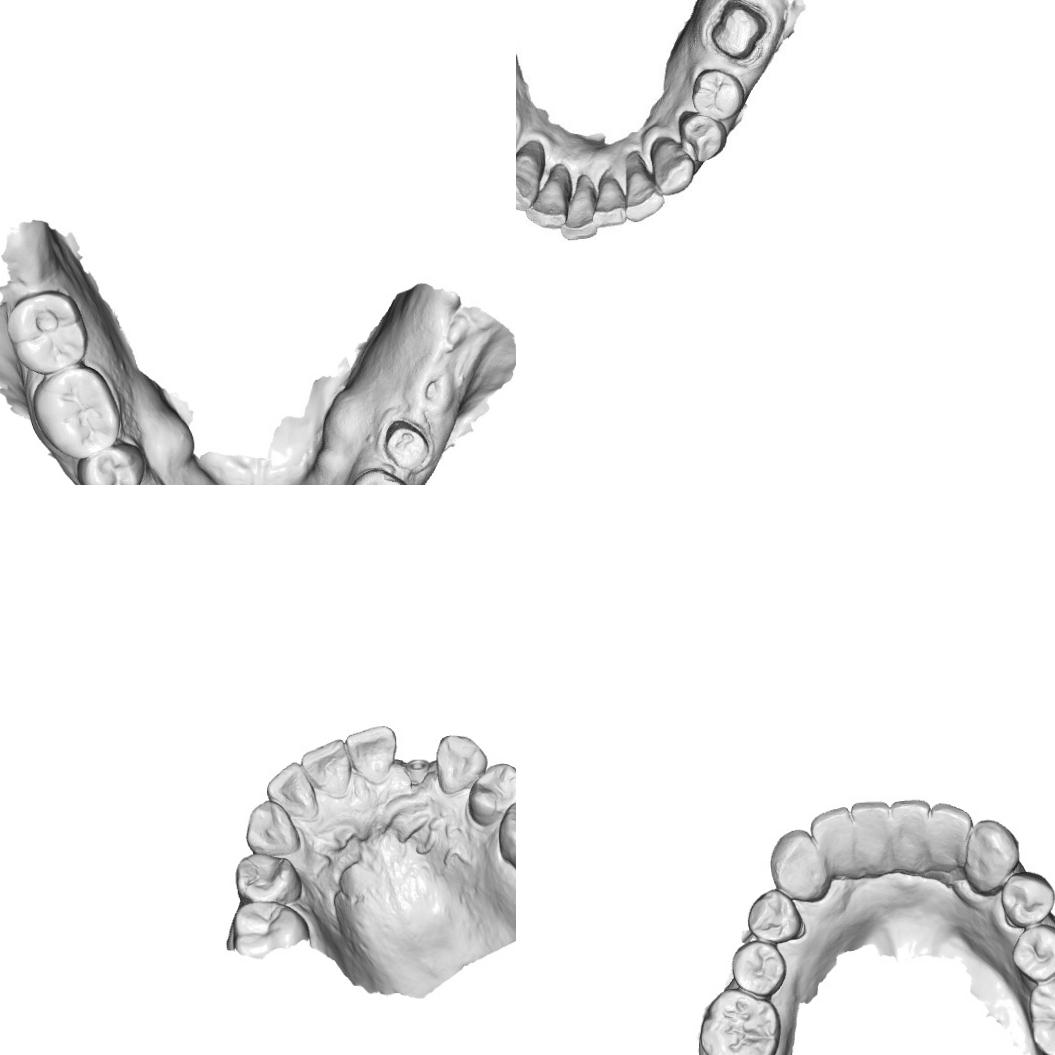canine: (768, 827, 828, 906), (964, 818, 1021, 894), (244, 799, 302, 857), (435, 734, 488, 796), (652, 140, 693, 195), (516, 150, 543, 217)
crown: (708, 0, 769, 63), (382, 416, 433, 474)
implant: (404, 757, 432, 785)
incisor: (345, 724, 398, 784), (300, 739, 352, 798), (265, 761, 317, 818), (888, 796, 934, 859), (526, 168, 570, 232), (624, 157, 664, 226), (560, 174, 600, 243), (926, 801, 974, 857), (808, 804, 854, 862), (848, 802, 894, 859), (596, 174, 627, 228)
molar: (30, 364, 124, 462), (5, 287, 92, 374), (696, 989, 781, 1055), (232, 899, 310, 958), (1025, 970, 1055, 1055), (497, 790, 516, 879)
premolar: (997, 868, 1055, 930), (235, 852, 302, 904), (730, 938, 788, 998), (745, 886, 803, 946), (466, 762, 516, 826), (77, 441, 146, 485), (690, 66, 741, 122), (1009, 922, 1055, 982), (680, 112, 728, 160), (349, 467, 409, 485)
